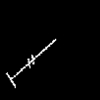treble_crochet: (6, 39, 55, 87)
